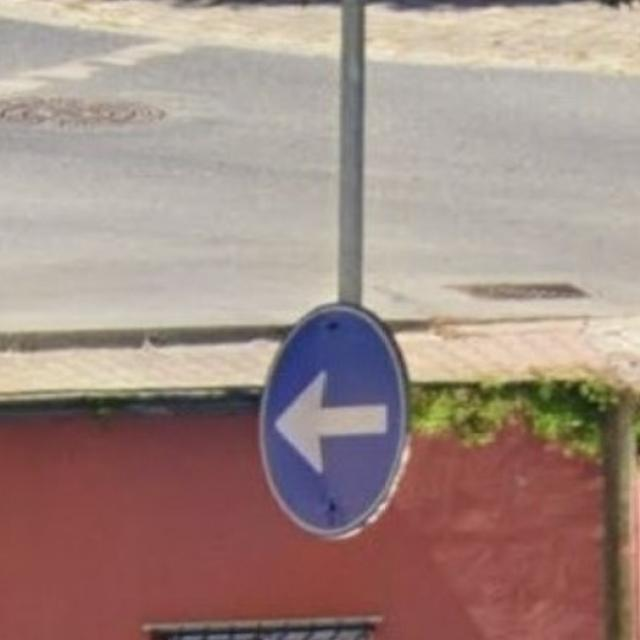Turn Left: (249, 306, 417, 546)
